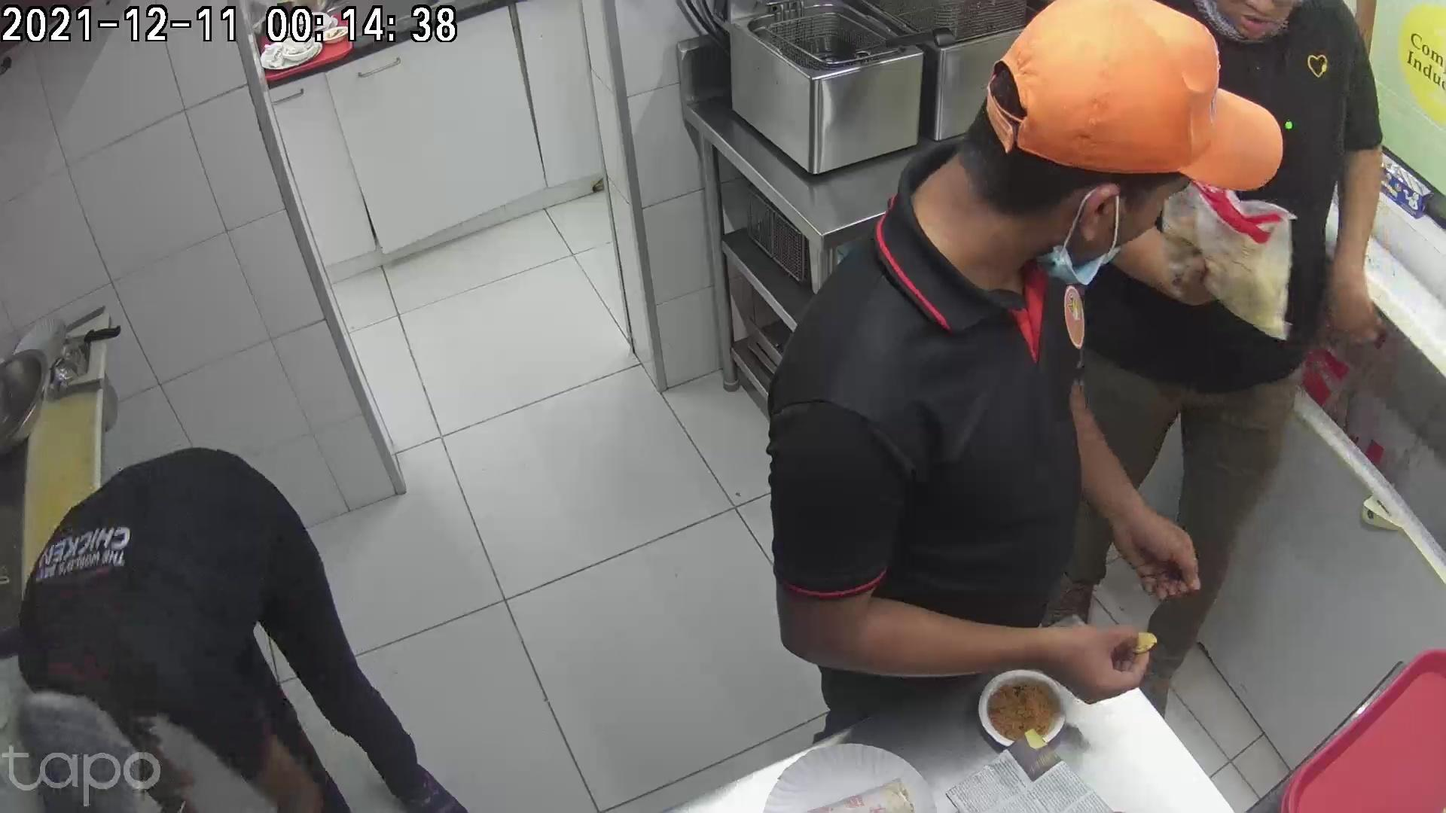no_gloves: (948, 448, 1008, 560)
